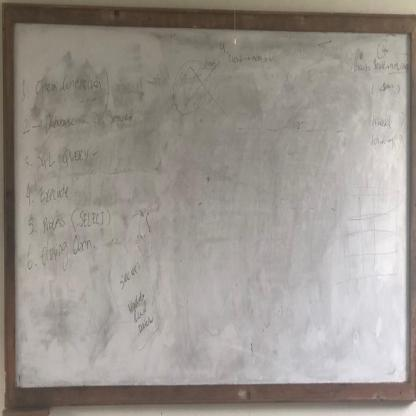Handwritten text: (33, 66, 105, 100), (39, 203, 109, 232), (39, 238, 96, 271), (33, 143, 91, 170), (40, 106, 84, 138), (37, 175, 71, 203)
Whiteboard: (8, 14, 414, 390)
